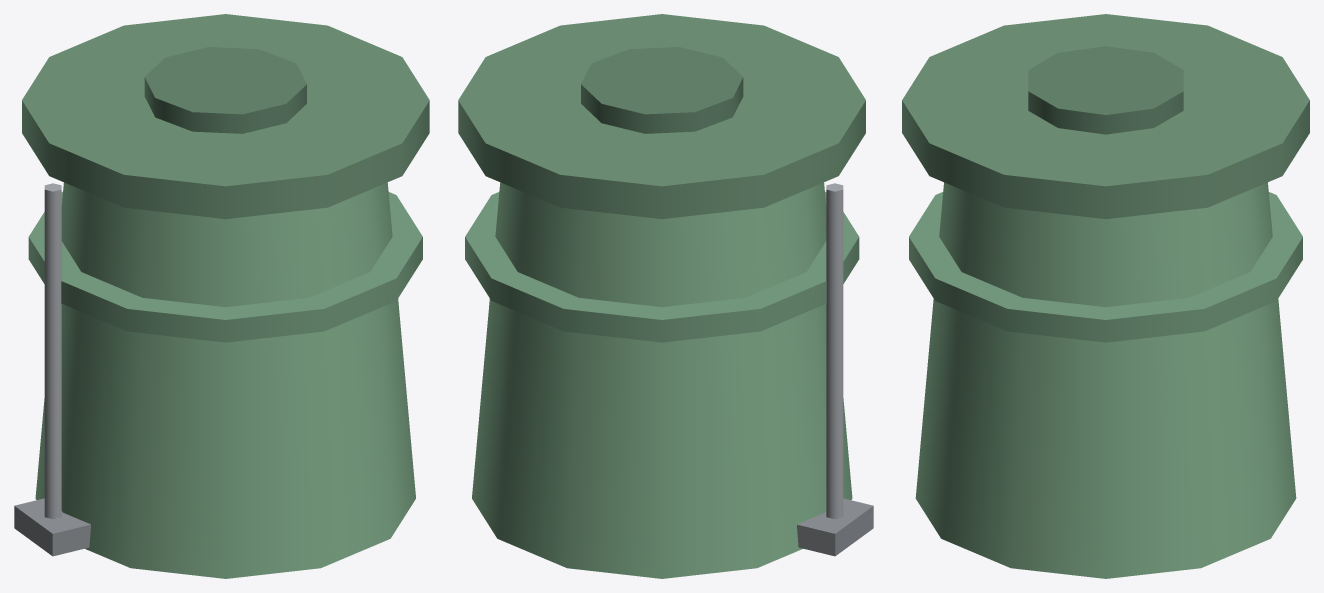
The model's file is bin.glb.
3 views of the same model, side by side, from view 1: azimuth 30°, elevation 25°; view 2: azimuth 150°, elevation 25°; view 3: azimuth 270°, elevation 25° (orthographic).
Visible parts, largest first — view 1: bin_body, lid, body_band, lid_handle, pedal_link, pedal; view 2: bin_body, lid, body_band, lid_handle, pedal_link, pedal; view 3: bin_body, lid, body_band, lid_handle.
Part boxes in pixels (x1,y1,x2,y2): bin_body: [35, 182, 415, 578]; lid: [22, 14, 429, 219]; body_band: [28, 192, 422, 342]; lid_handle: [144, 47, 306, 133]; pedal_link: [44, 183, 61, 518]; pedal: [14, 498, 90, 556]; bin_body: [472, 182, 852, 578]; lid: [458, 14, 865, 219]; body_band: [465, 192, 859, 342]; lid_handle: [581, 47, 743, 133]; pedal_link: [826, 183, 843, 518]; pedal: [797, 498, 873, 556]; bin_body: [915, 182, 1296, 578]; lid: [902, 14, 1309, 218]; body_band: [909, 192, 1302, 342]; lid_handle: [1028, 46, 1183, 134].
Size of the model in its own units: 0.94 by 1.02 by 0.9.
